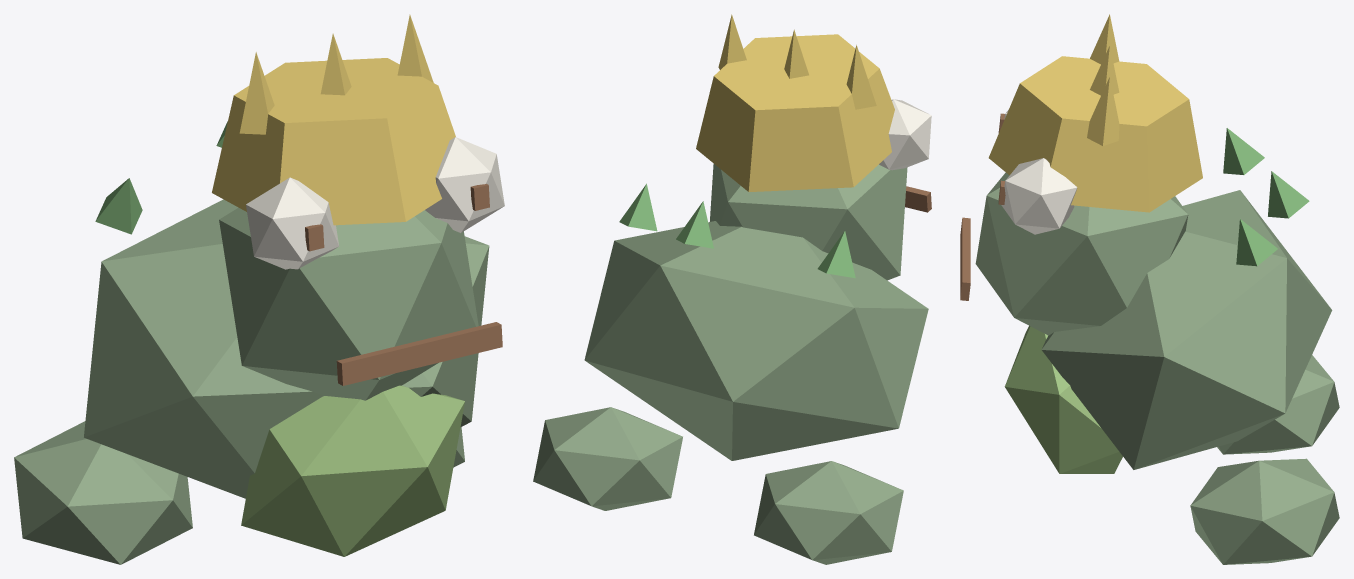
File: npcpose_toad_king_attack_06.glb
3 views of the same model, side by side, from view 1: azimuth 30°, elevation 25°; view 2: azimuth 150°, elevation 25°; view 3: azimuth 270°, elevation 25° (orthographic). The views are drawn at different scales.
Visible parts, largest first — view 1: npcpose; view 2: npcpose; view 3: npcpose.
Part boxes in pixels (bbox=[...]): npcpose: bbox=[14, 14, 504, 564]; npcpose: bbox=[533, 14, 931, 564]; npcpose: bbox=[960, 14, 1339, 564].
Bounding box in the file's own units: 1.75 × 2.16 × 1.6.
